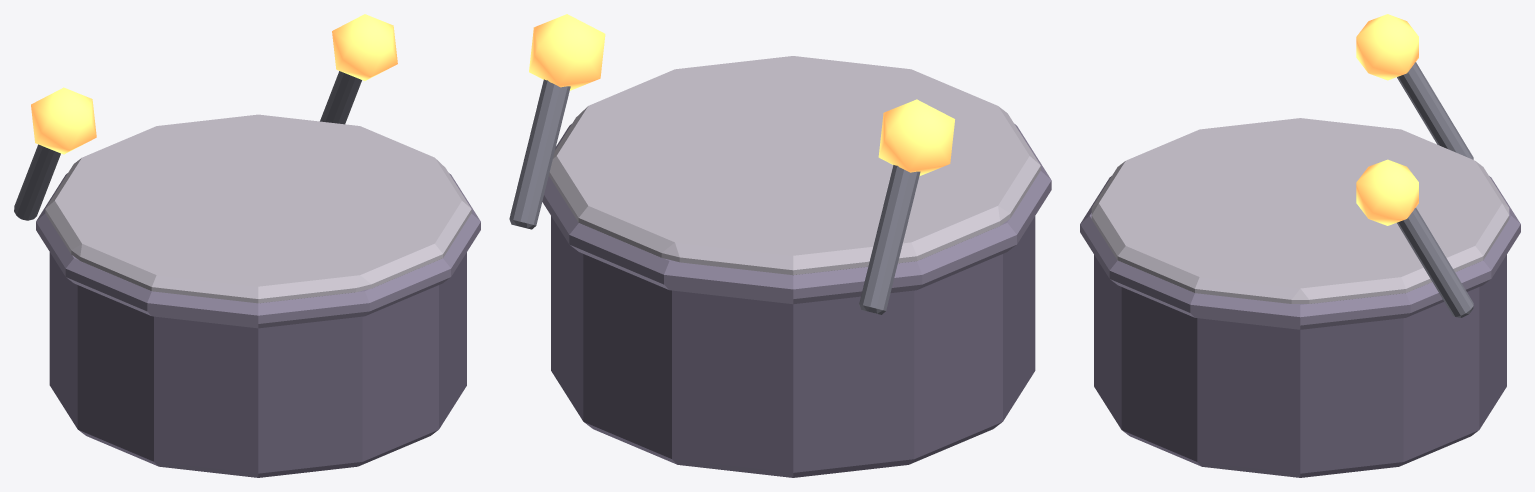
The model's file is ember_drum.glb.
3 views of the same model, side by side, from view 1: azimuth 30°, elevation 25°; view 2: azimuth 150°, elevation 25°; view 3: azimuth 270°, elevation 25° (orthographic). The views are drawn at different scales.
Visible parts, largest first — view 1: ember_drum_Body, ember_drum_Mallets.001; view 2: ember_drum_Body, ember_drum_Mallets.001; view 3: ember_drum_Body, ember_drum_Mallets.001.
Boxes of the visible parts, left/top/right/bottom form: ember_drum_Body: left=36, top=114, right=480, bottom=477; ember_drum_Mallets.001: left=14, top=14, right=397, bottom=220; ember_drum_Body: left=542, top=56, right=1051, bottom=477; ember_drum_Mallets.001: left=509, top=14, right=954, bottom=314; ember_drum_Body: left=1080, top=118, right=1520, bottom=477; ember_drum_Mallets.001: left=1356, top=14, right=1473, bottom=317.
Size of the model in its own units: 1.92 by 1.48 by 1.92.
